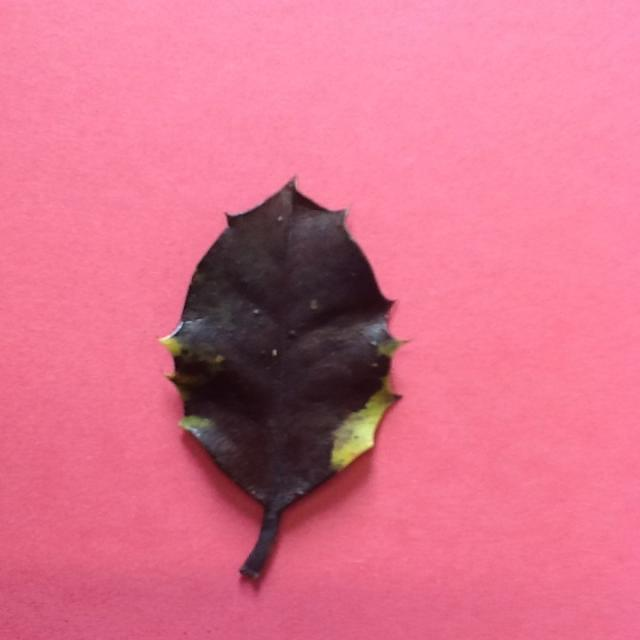foliage: (151, 170, 416, 592)
